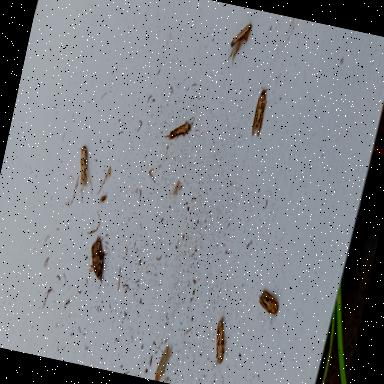pbw: (67, 145, 101, 205), (208, 317, 234, 369), (84, 235, 111, 284), (224, 22, 252, 68), (250, 88, 270, 138), (163, 112, 194, 144), (254, 288, 280, 320), (154, 344, 174, 383)
